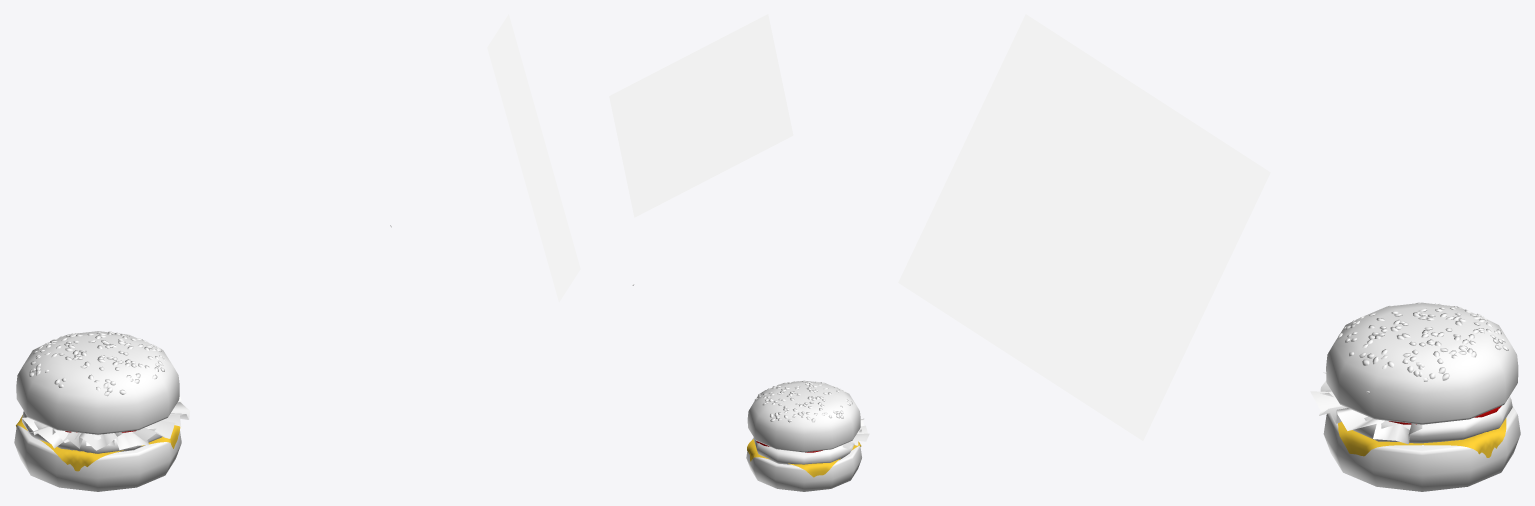
File: hamburger-textured.glb
3 views of the same model, side by side, from view 1: azimuth 30°, elevation 25°; view 2: azimuth 150°, elevation 25°; view 3: azimuth 270°, elevation 25° (orthographic). The views are drawn at different scales.
Parts seen in each view (by area): view 1: top, Plane.003, buttom, veg.002, chesse, meat, veg; view 2: Plane.003, top, buttom, meat, chesse; view 3: Plane.003, top, buttom, meat, chesse, veg.
Boxes of the visible parts, bbox=[...] form: top: bbox=[16, 331, 179, 434]; Plane.003: bbox=[487, 14, 580, 302]; buttom: bbox=[14, 425, 181, 491]; veg.002: bbox=[29, 426, 156, 450]; chesse: bbox=[16, 415, 180, 471]; meat: bbox=[22, 411, 162, 453]; veg: bbox=[132, 394, 190, 441]; Plane.003: bbox=[609, 14, 793, 217]; top: bbox=[747, 380, 860, 452]; buttom: bbox=[746, 438, 861, 491]; meat: bbox=[753, 437, 853, 464]; chesse: bbox=[747, 439, 861, 477]; Plane.003: bbox=[898, 14, 1270, 440]; top: bbox=[1326, 302, 1518, 424]; buttom: bbox=[1323, 406, 1520, 491]; meat: bbox=[1353, 396, 1512, 443]; chesse: bbox=[1338, 418, 1506, 457]; veg: bbox=[1310, 391, 1422, 444].
Size of what is drawn, in the model's own units: 6.3 by 6.56 by 6.5.
